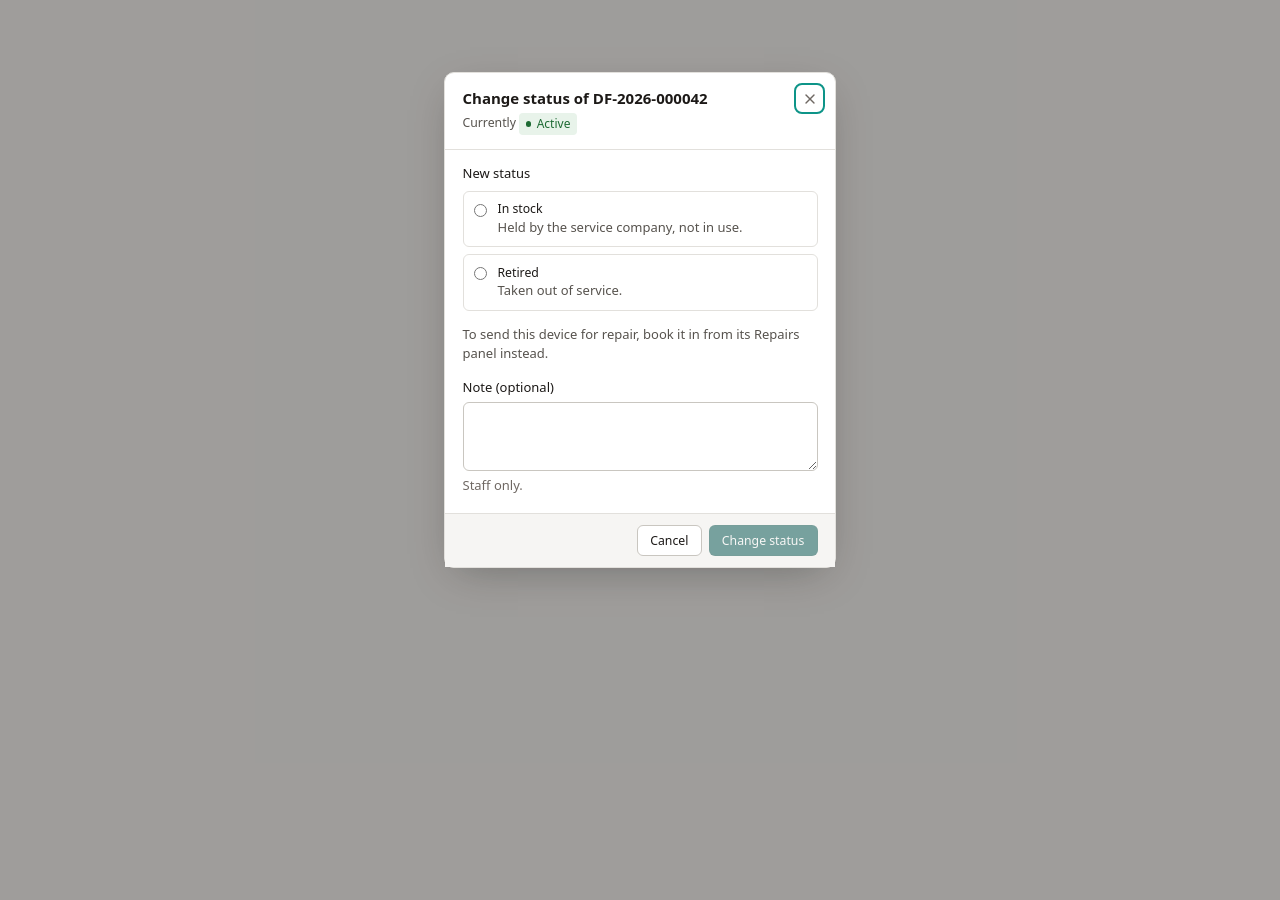
Test: AssetStatusDialog › requires a reason before retiring, then sends the version it was shown
Later steps or results of the test are not shown.
Click the radio button labelled "Retired Taken out of service.": (480, 274) [474, 267, 487, 280]
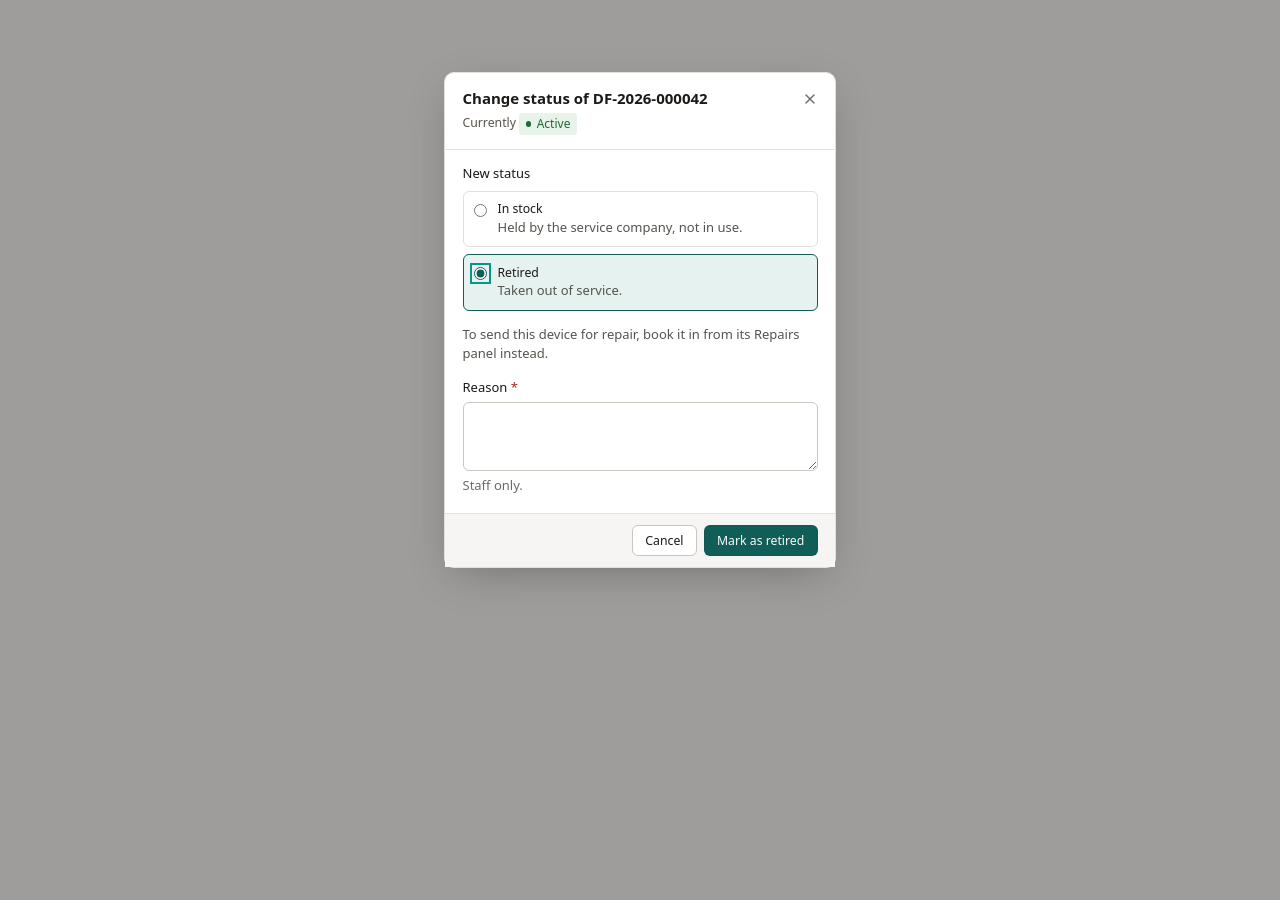
Click the button "Mark as retired": (761, 540) [704, 524, 818, 556]
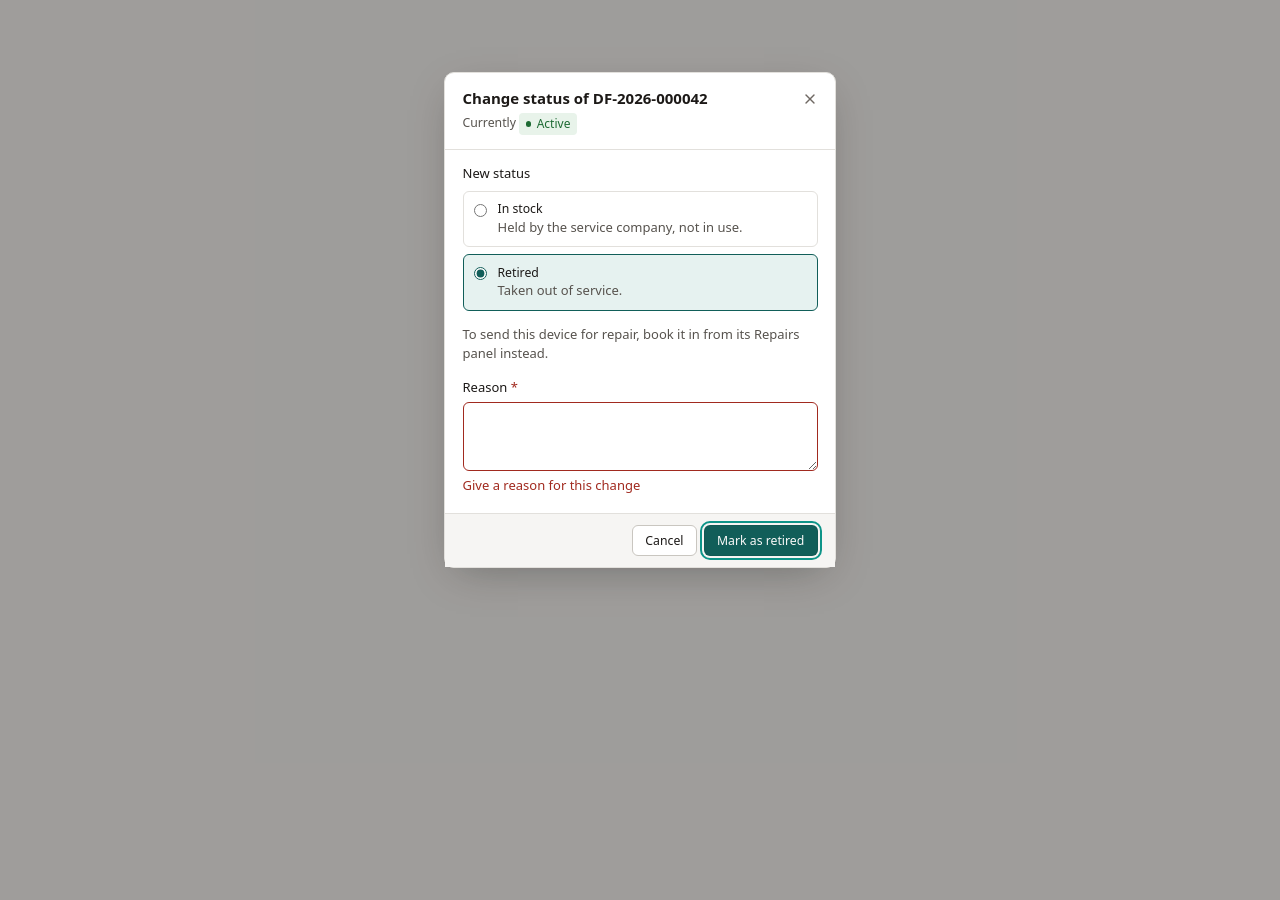
Expected: the text "Give a reason for this change" is shown, [462, 476, 640, 494]
